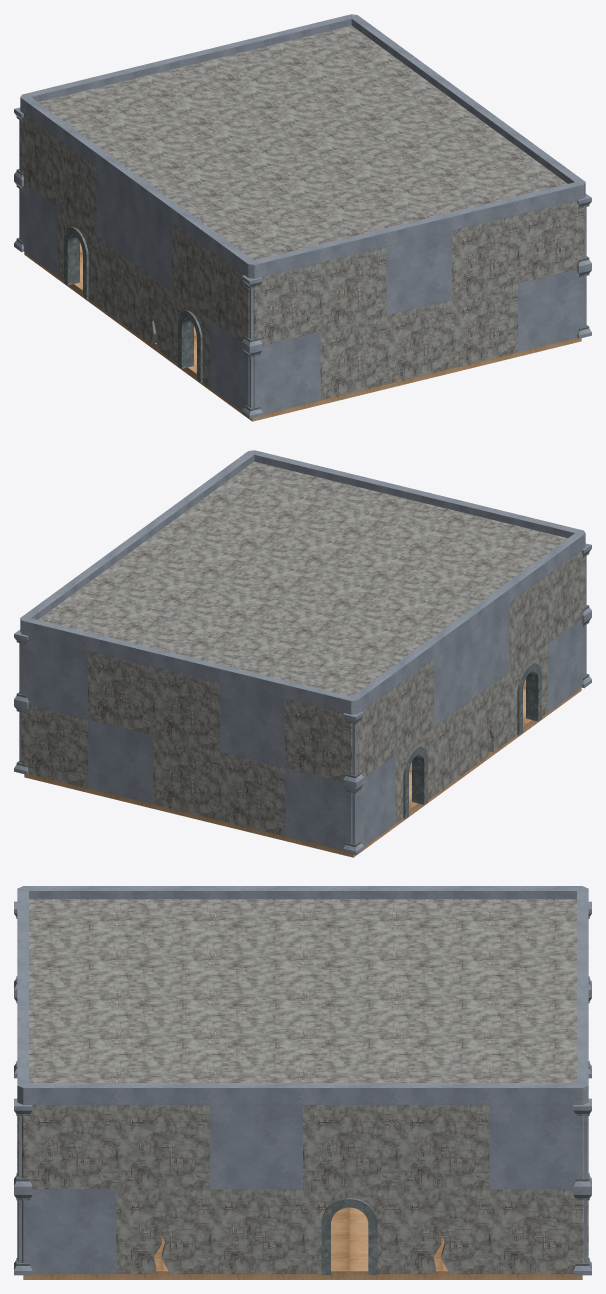
The model's file is BedCambers_AF.obj.
The picture shows the model from 3 angles, top to bottom: view 1: azimuth 30°, elevation 25°; view 2: azimuth 150°, elevation 25°; view 3: azimuth 270°, elevation 25°; orthographic projection. The views are drawn at different scales.
Parts seen in each view (by area): view 1: mergedBlocks; view 2: mergedBlocks; view 3: mergedBlocks.
Part boxes in pixels (<box>): mergedBlocks: <box>14,14,591,421</box>; mergedBlocks: <box>14,450,591,857</box>; mergedBlocks: <box>14,886,591,1279</box>.
Size of the model in its own units: 5.2 by 2.3 by 6.2.
